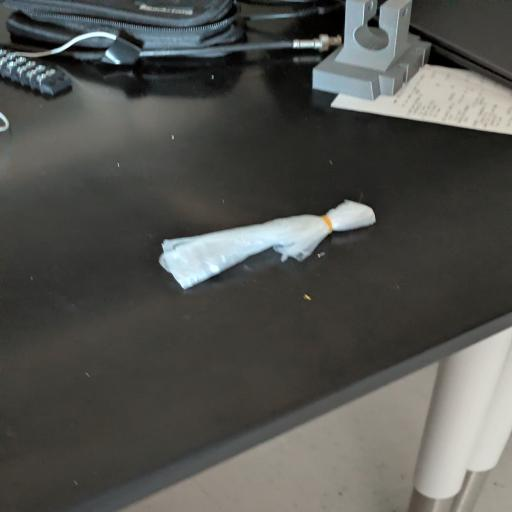rubberband: (156, 199, 380, 294)
